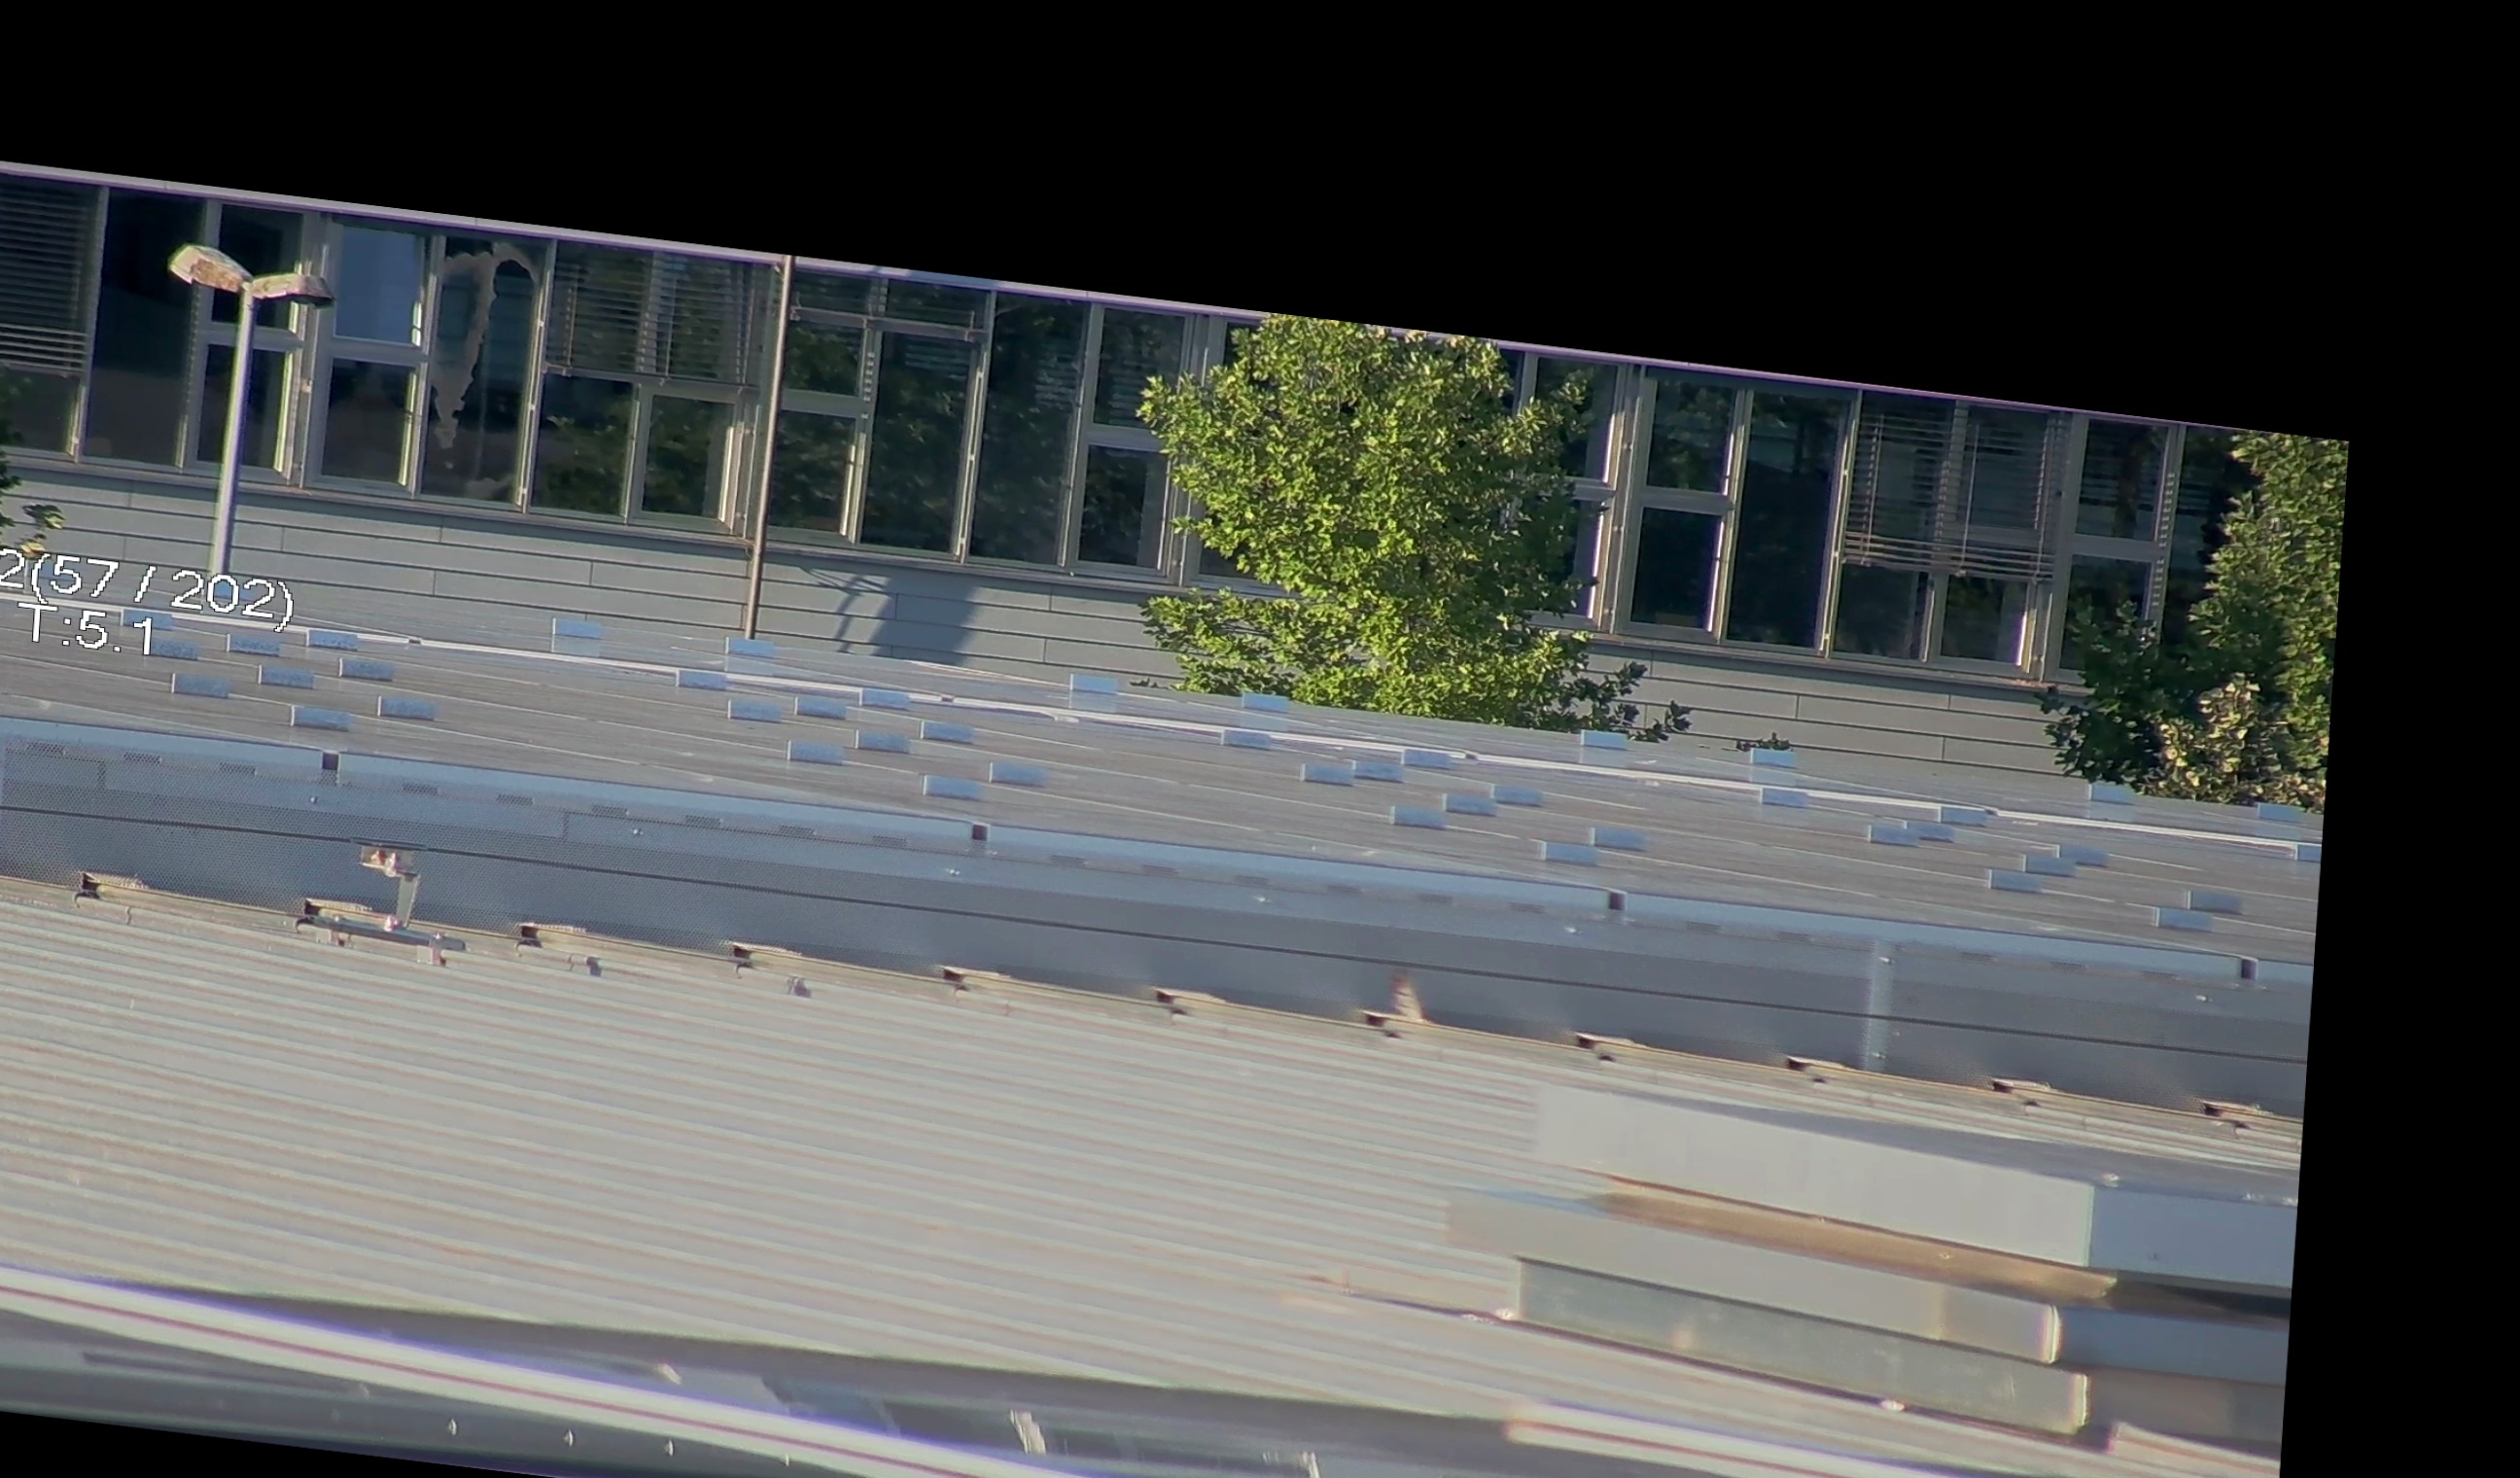Other: (1365, 955, 1451, 1049)
